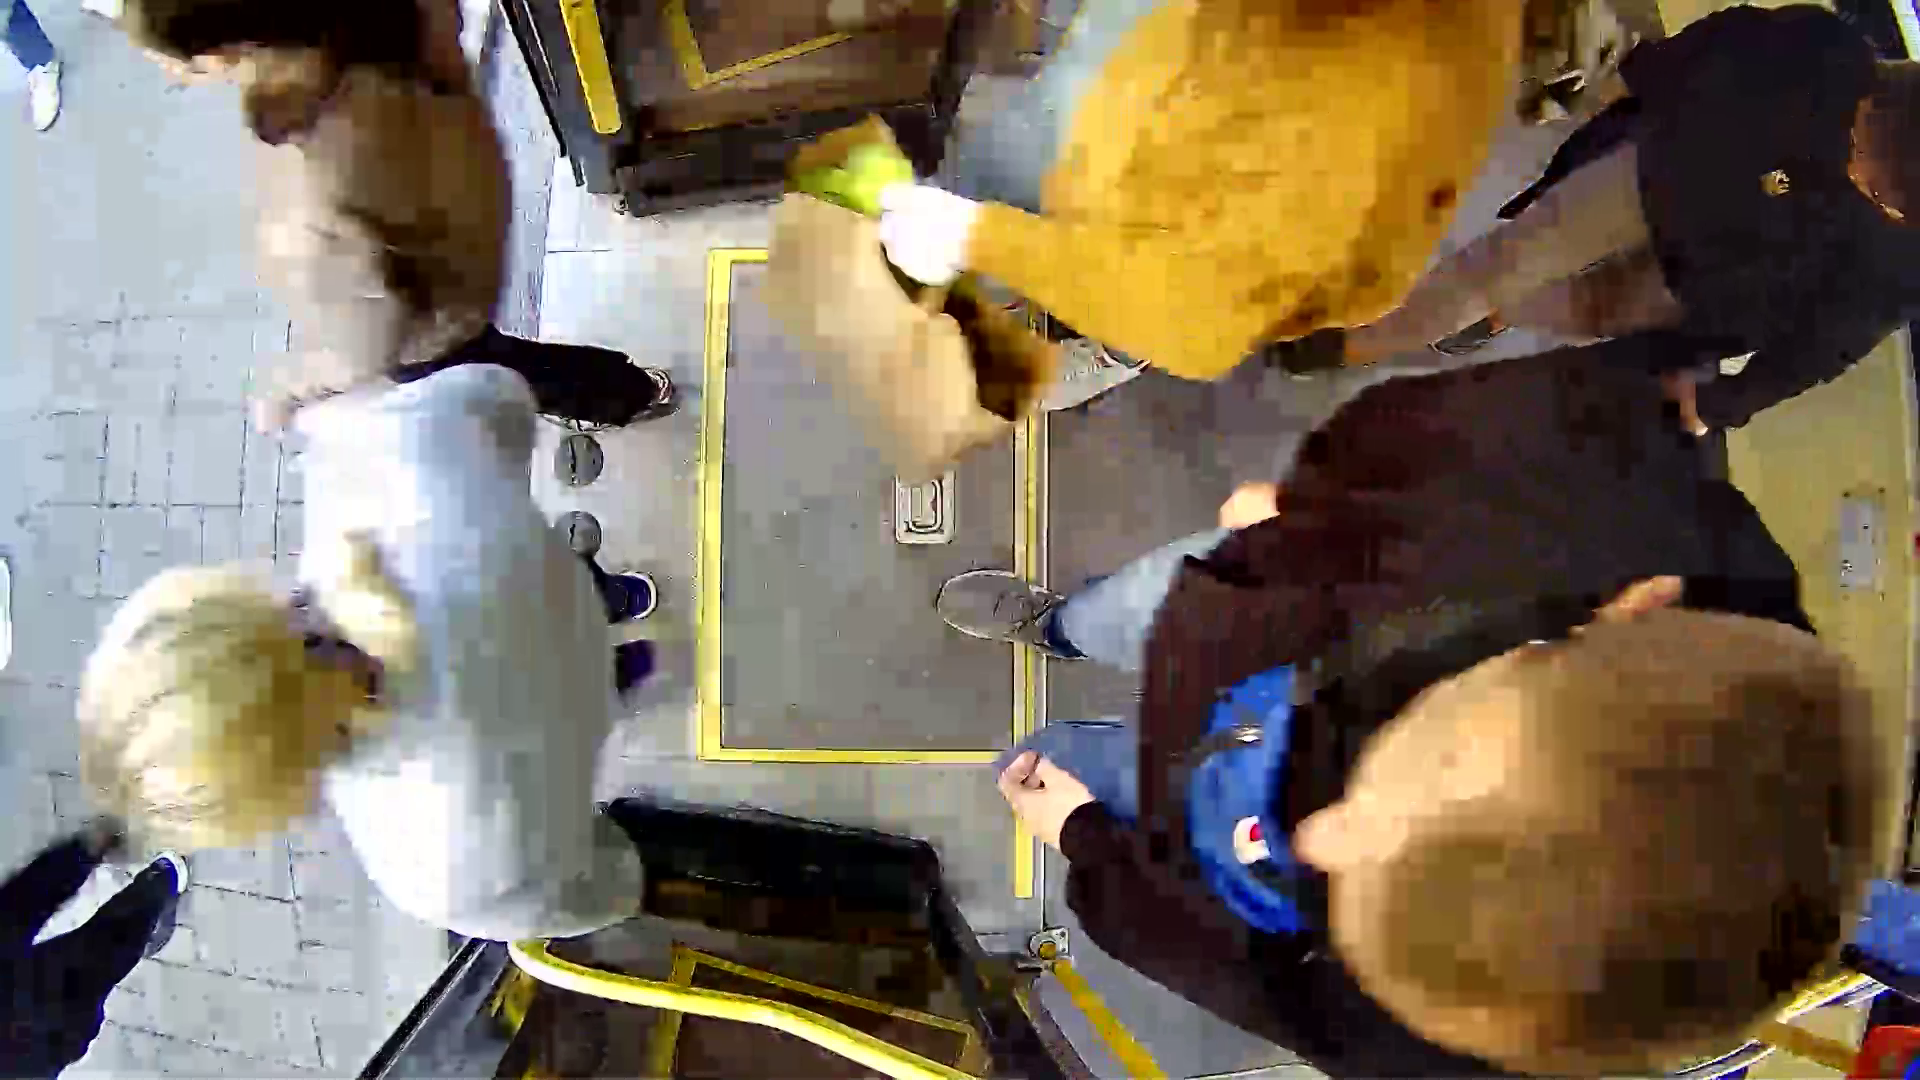person: (951, 396, 1920, 1067), (25, 1, 818, 510), (78, 413, 701, 906)
